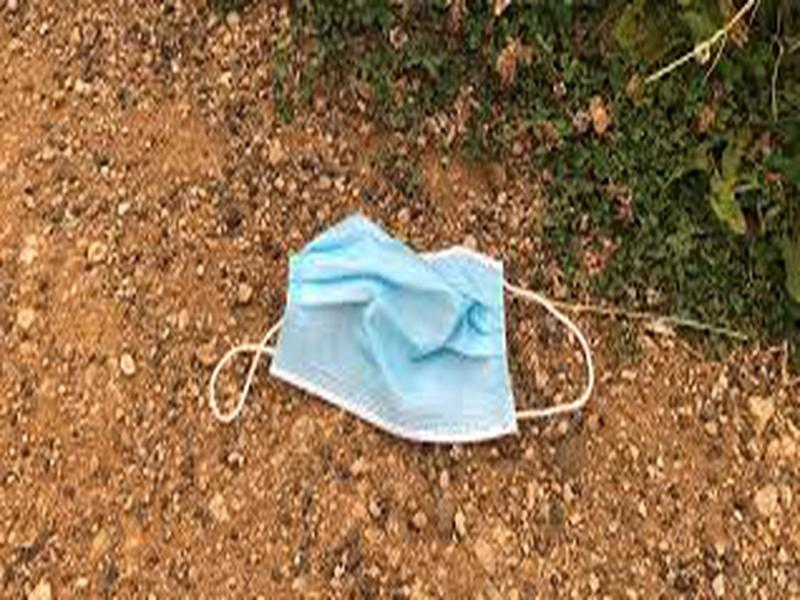mask: (194, 210, 598, 465)
